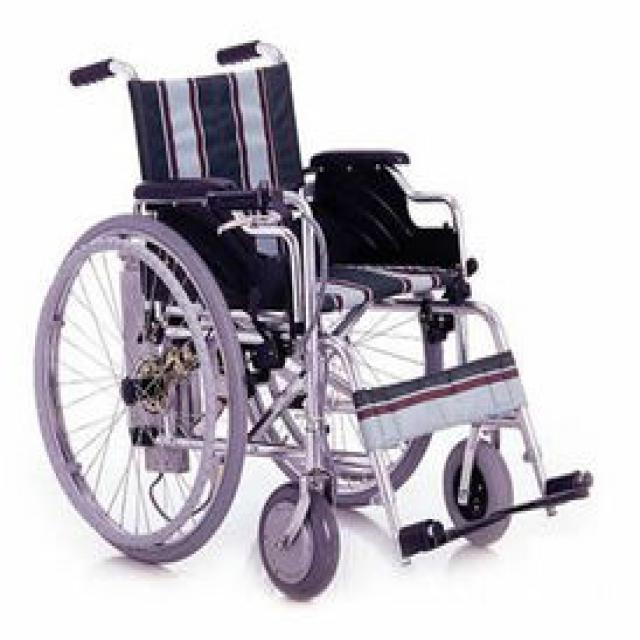wheelchair: (25, 32, 608, 597)
